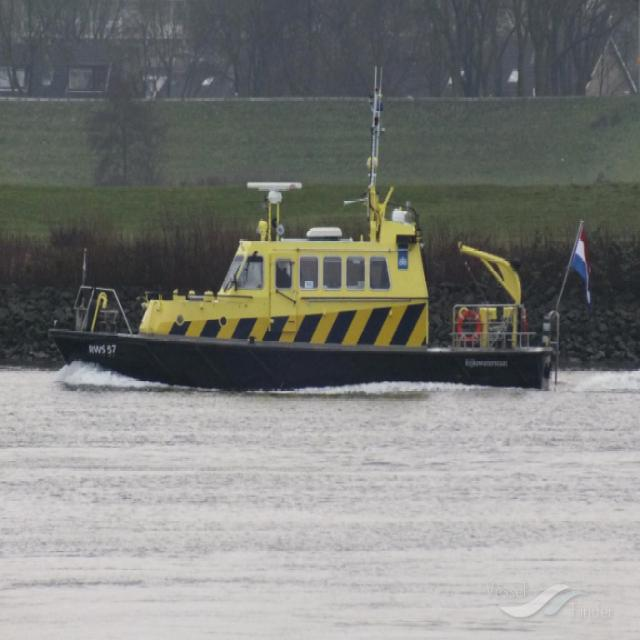OCR: (80, 336, 118, 361)
